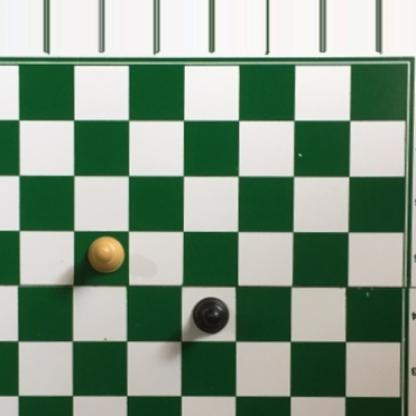black-pawn: (191, 294, 231, 336)
white-pawn: (84, 236, 127, 277)
